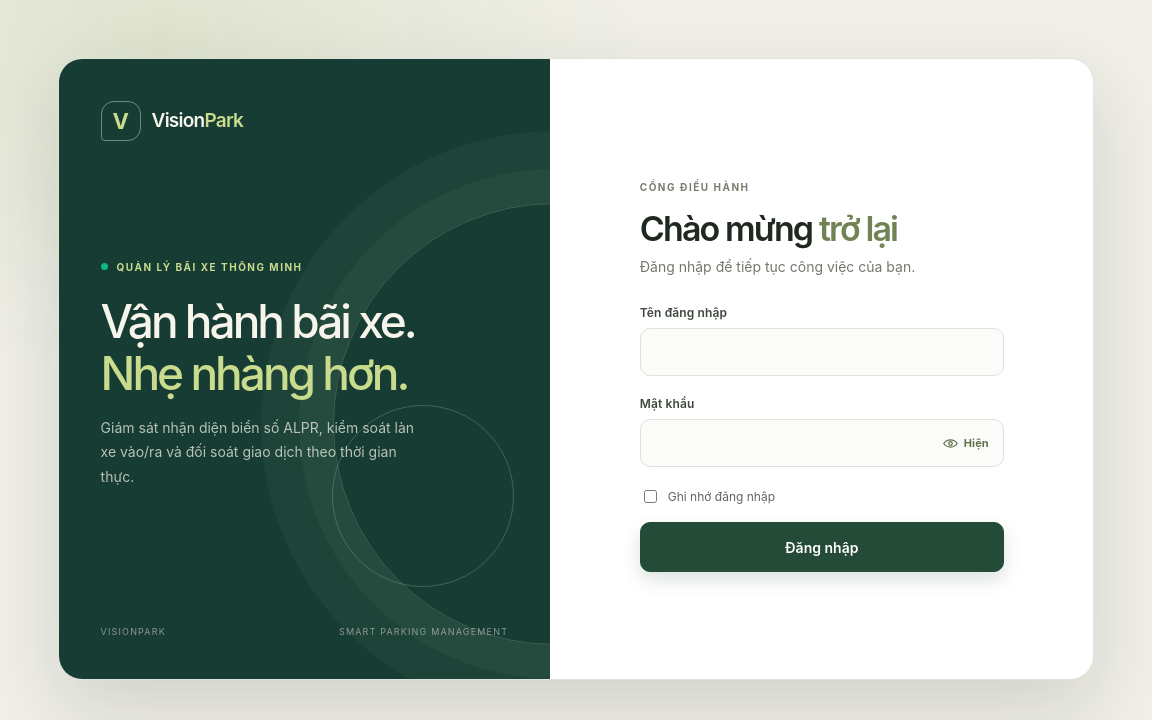
Test: LoginPage › shows 401 message
Type "admin" into the field labelled "Tên đăng nhập" at (822,352), box [640,328,1004,376]
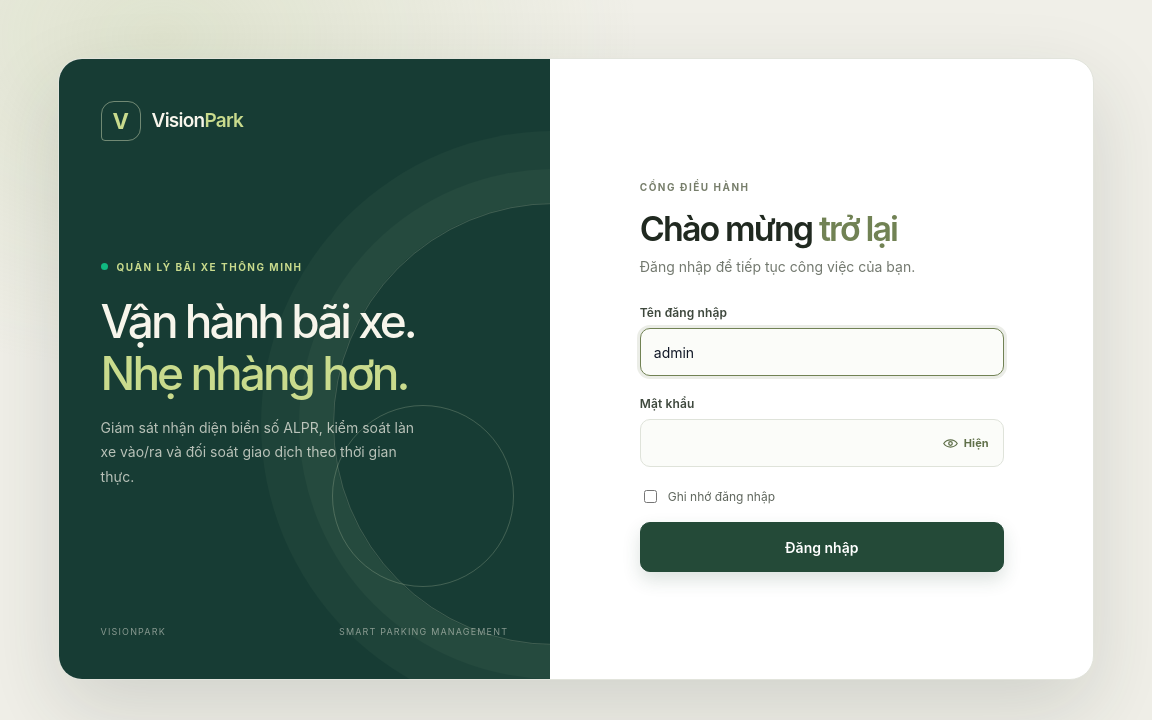
Type "wrong" into the password field labelled "Mật khẩu" at (822,444), box [640,420,1004,468]
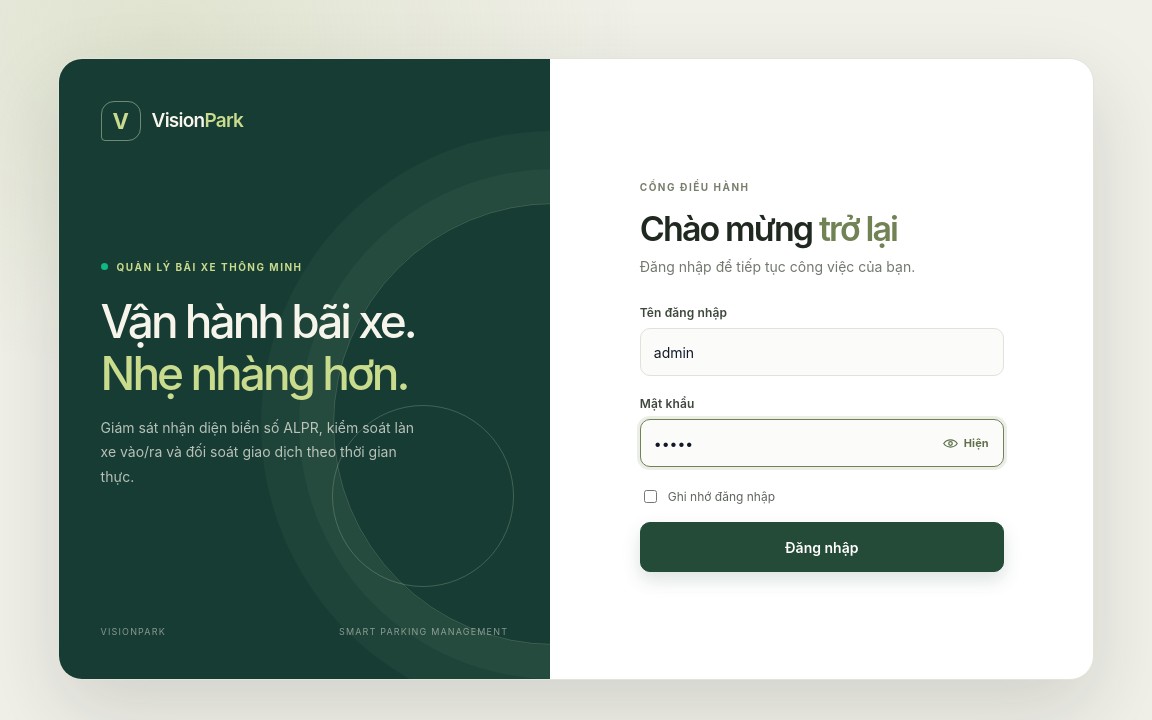
Click the button "Đăng nhập" at (822,548), box [640,522,1004,572]
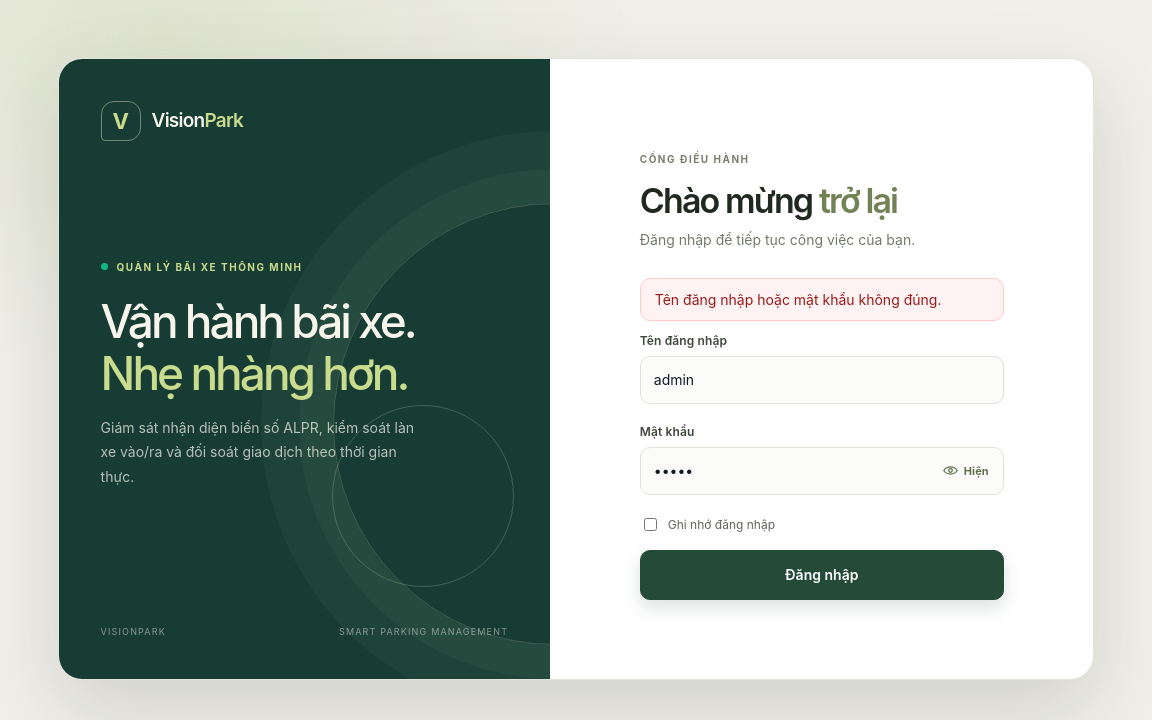
Expected: the text "Tên đăng nhập hoặc mật khẩu không đúng." is shown, [640,278,1004,321]
